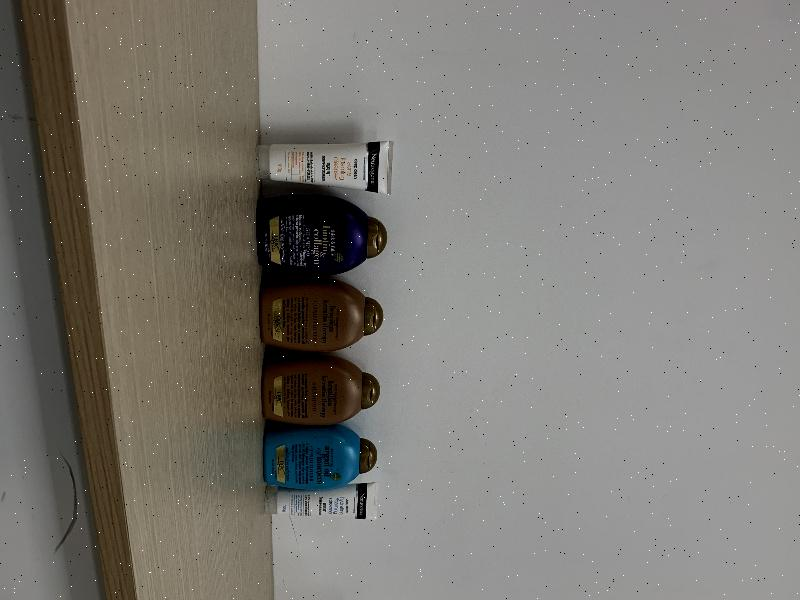AcneFoamingCleanser: (255, 140, 394, 195)
ArganOilOfMorocco_Conditioner: (262, 427, 377, 489)
BiotinCollagen_Shampoo: (257, 195, 387, 277)
BrazilianKeratinTherapy_Shampoo: (261, 357, 381, 426)
BrazilianKerationTherapy_Conditioner: (259, 278, 383, 353)
HydratingFoamingCleanser: (265, 487, 377, 520)
